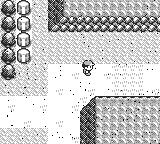main: (82, 60, 95, 76)
no-caminable: (81, 97, 160, 143), (48, 0, 160, 32), (1, 0, 15, 80), (16, 0, 31, 64)
